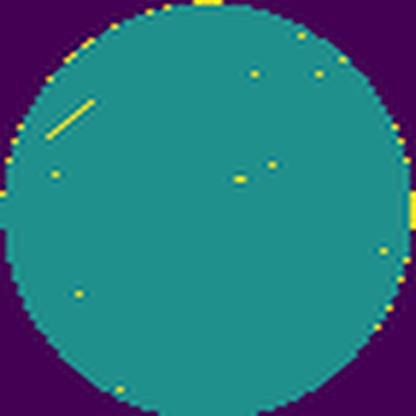Scratch: (44, 92, 100, 142)
